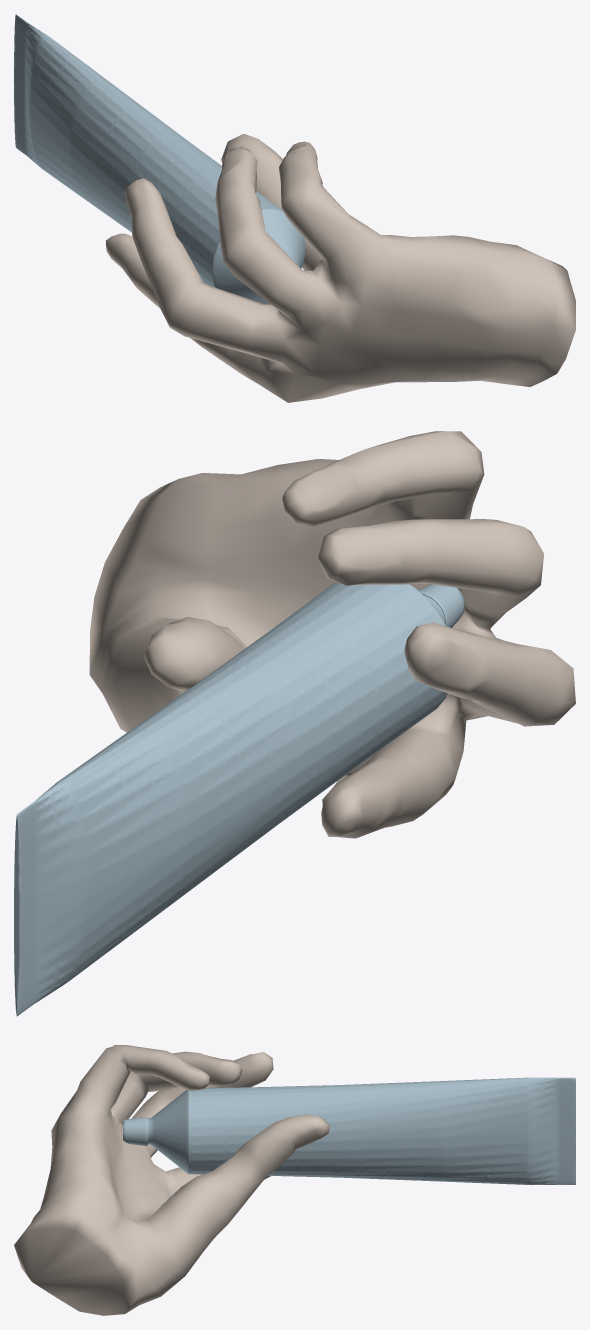
The model's file is grasp_2.glb.
3 views of the same model, one above another, from view 1: azimuth 30°, elevation 25°; view 2: azimuth 150°, elevation 25°; view 3: azimuth 270°, elevation 25° (orthographic). The views are drawn at different scales.
Bounding box in the file's own units: 0.1417 × 0.0941 × 0.2505.
